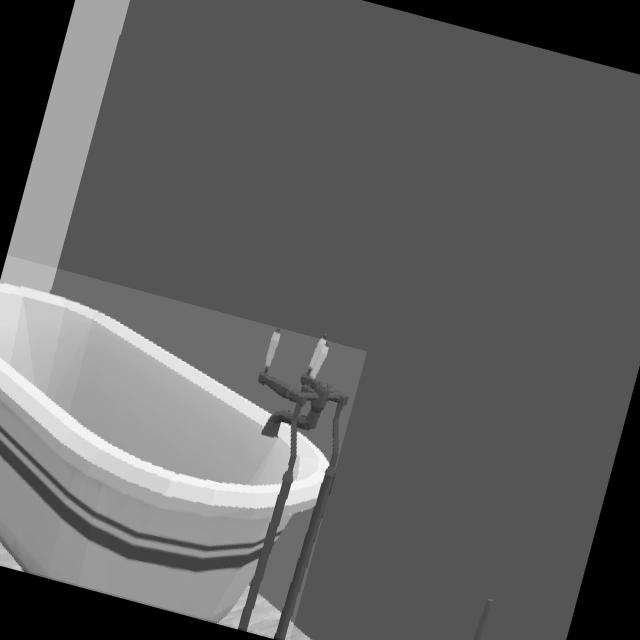bathtube: (0, 286, 347, 638)
